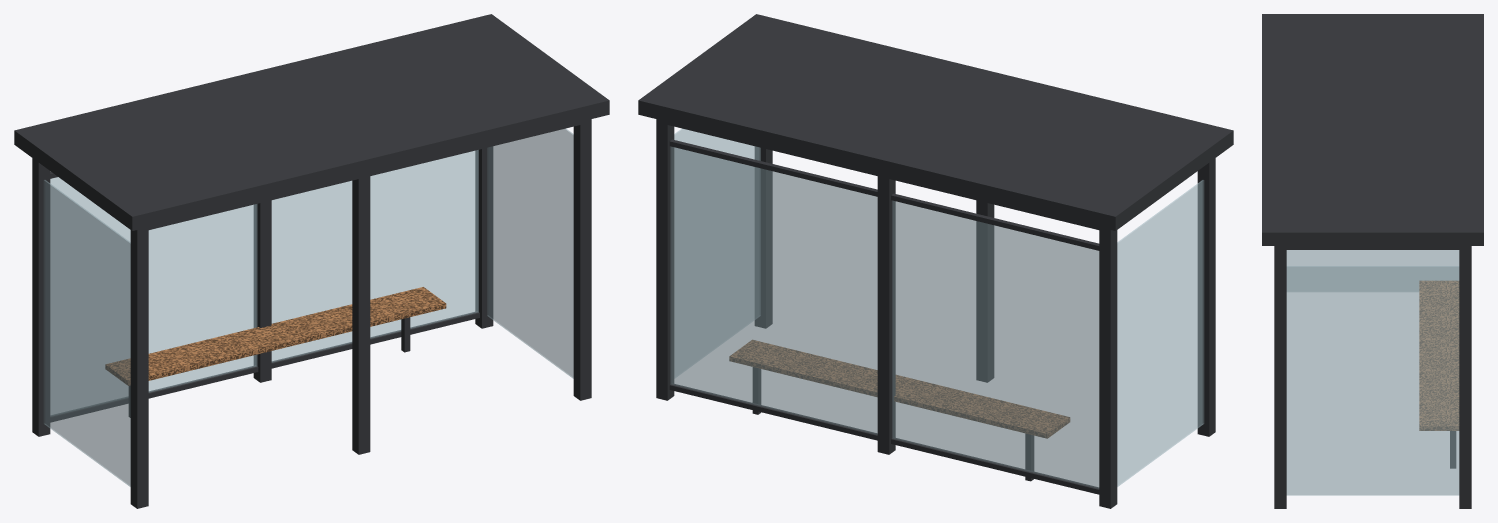
The picture shows the model from 3 angles, left to right: view 1: azimuth 30°, elevation 25°; view 2: azimuth 150°, elevation 25°; view 3: azimuth 270°, elevation 25°; orthographic projection. The views are drawn at different scales.
Visible parts, largest first — view 1: backWall=true;depth=1.6;frameMaterial=steel_dark;height=2.4; (×3); view 2: backWall=true;depth=1.6;frameMaterial=steel_dark;height=2.4; (×3); view 3: backWall=true;depth=1.6;frameMaterial=steel_dark;height=2.4; (×3).
Part boxes in pixels (x1,y1,x2,y2): backWall=true;depth=1.6;frameMaterial=steel_dark;height=2.4; (×3): (14, 14, 609, 508); backWall=true;depth=1.6;frameMaterial=steel_dark;height=2.4; (×3): (638, 14, 1233, 508); backWall=true;depth=1.6;frameMaterial=steel_dark;height=2.4; (×3): (1262, 14, 1483, 508).
Bounding box in the file's own units: 4.2 × 1.8 × 2.52.
3 materials, 1 textured.
